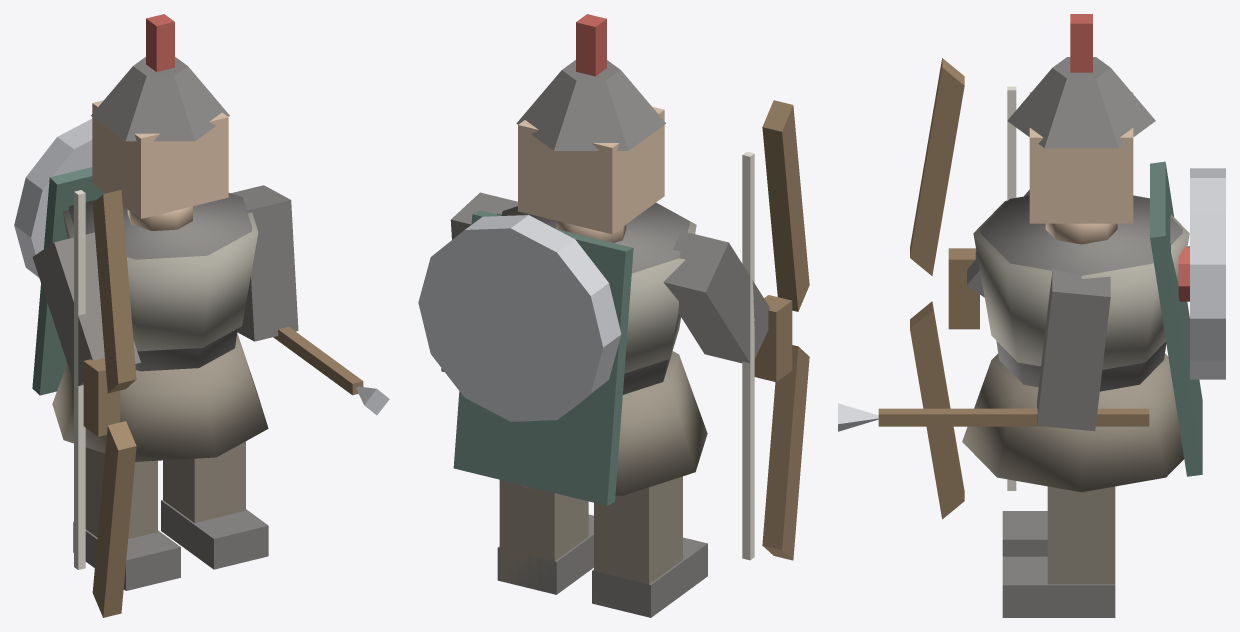
The model's file is troop-wudang.glb.
3 views of the same model, side by side, from view 1: azimuth 30°, elevation 25°; view 2: azimuth 150°, elevation 25°; view 3: azimuth 270°, elevation 25° (orthographic). The views are drawn at different scales.
Visible parts, largest first — view 1: skirt, vest, head, helmet, body, arm_r, bow_limb_u, bow_limb_d, arm_l, leg_r, shield_rim, foot_r (+9 smaller); view 2: shield_rim, cape, head, arm_l, skirt, helmet, leg_l, leg_r, bow_limb_u, bow_limb_d, vest, bow_string (+7 smaller); view 3: skirt, vest, body, arm_r, helmet, head, shield_rim, cape, leg_r, bow_limb_u, foot_r, bow_limb_d (+8 smaller).
Part boxes in pixels (x1,y1,x2,y2): skirt: (52, 333, 268, 461); vest: (63, 198, 258, 351); head: (92, 100, 228, 218); helmet: (91, 57, 229, 141); body: (68, 193, 252, 371); arm_r: (231, 185, 298, 341); bow_limb_u: (92, 190, 136, 393); bow_limb_d: (92, 421, 136, 617); arm_l: (32, 232, 140, 385); leg_r: (163, 441, 245, 522); shield_rim: (14, 119, 92, 278); foot_r: (161, 500, 268, 569); shield_rim: (418, 215, 621, 421); cape: (453, 210, 633, 505); head: (518, 107, 664, 234); arm_l: (663, 231, 770, 363); skirt: (521, 351, 707, 495); helmet: (516, 60, 665, 150); leg_l: (594, 476, 682, 607); leg_r: (499, 480, 588, 588); bow_limb_u: (762, 100, 809, 311); bow_limb_d: (762, 345, 809, 560); vest: (497, 203, 696, 373); bow_string: (742, 151, 754, 560); skirt: (962, 353, 1184, 492); vest: (973, 200, 1189, 369); body: (980, 195, 1182, 391); arm_r: (1037, 268, 1110, 431); helmet: (1007, 57, 1155, 148); head: (1029, 92, 1133, 223); shield_rim: (1190, 168, 1225, 379); cape: (1150, 161, 1202, 476); leg_r: (1047, 486, 1115, 584); bow_limb_u: (910, 58, 964, 275); foot_r: (1002, 556, 1115, 617); bow_limb_d: (910, 301, 964, 519).
Size of the model in its own units: 0.132 by 0.275 by 0.172.
